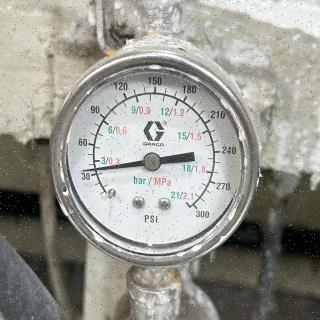gauge: (47, 46, 269, 270), (182, 194, 206, 218), (94, 183, 118, 205), (143, 152, 161, 172), (80, 166, 90, 174)
